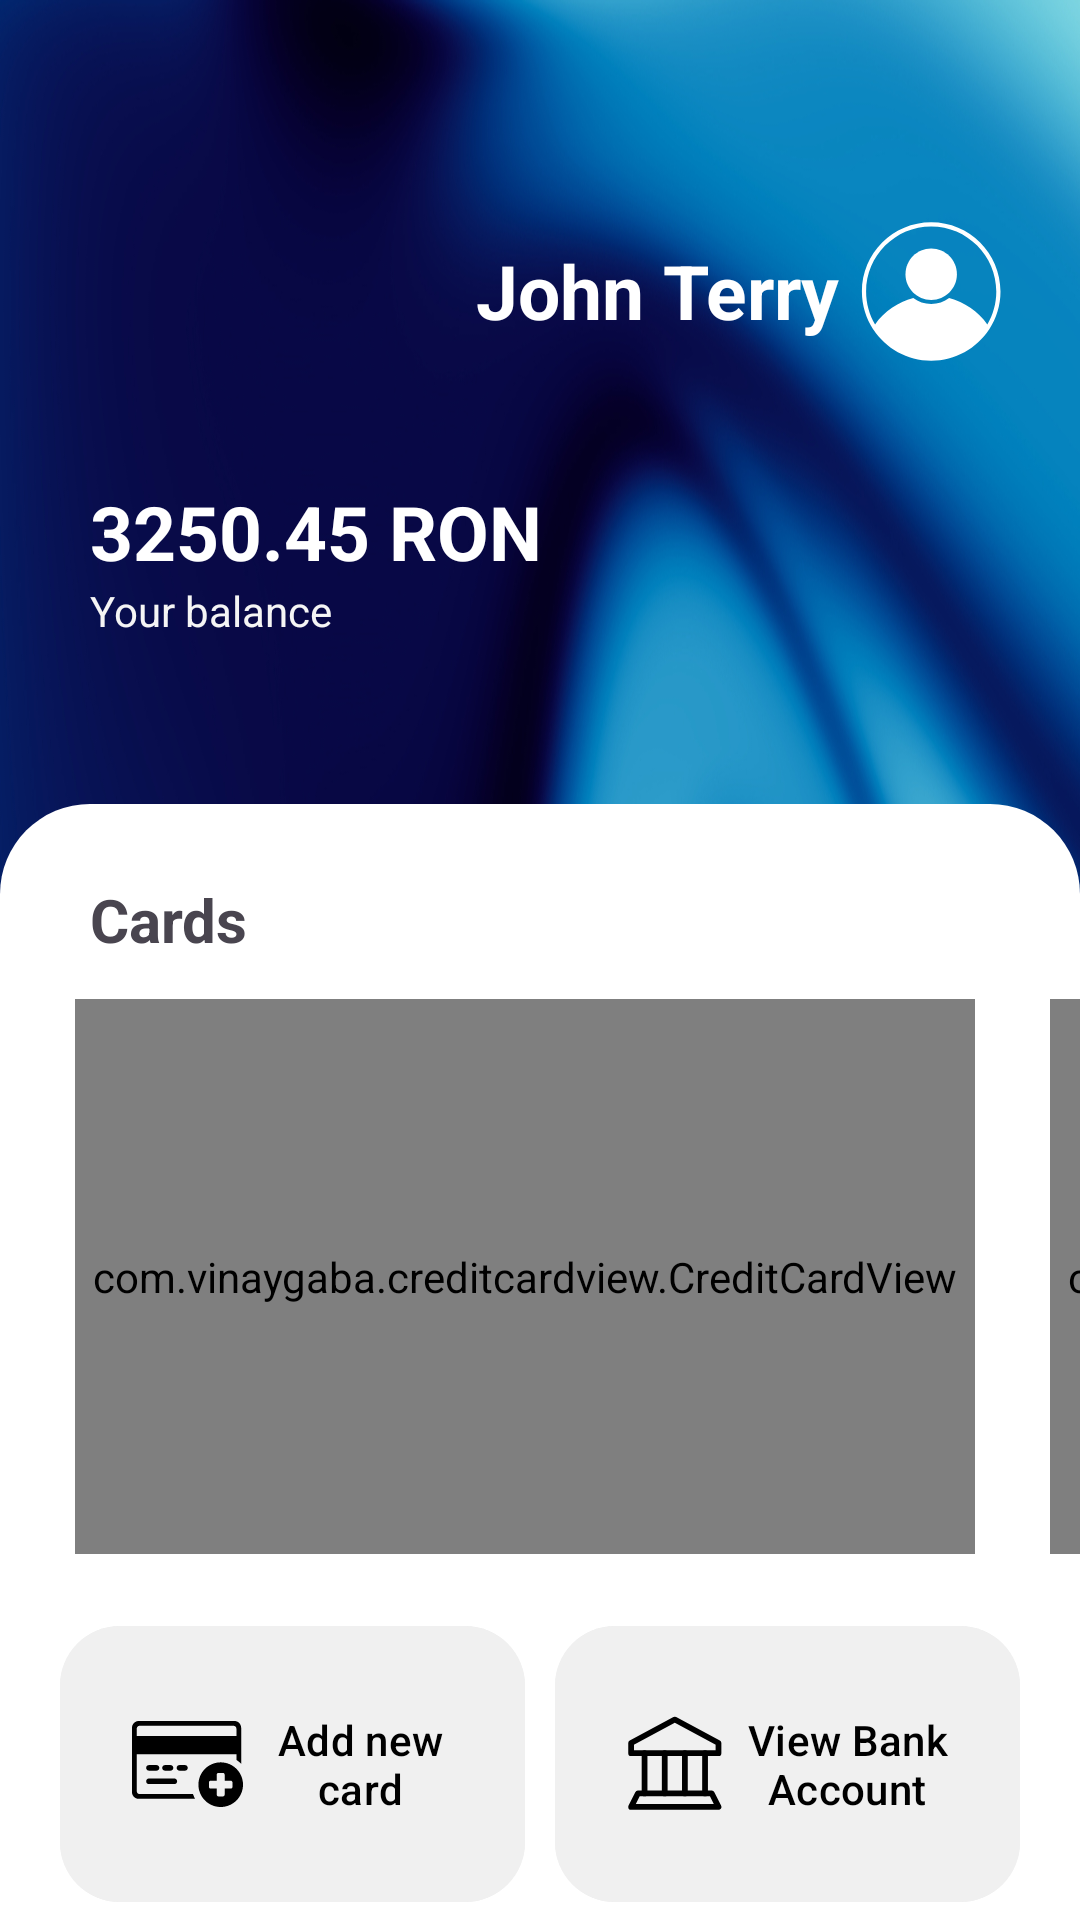

Where to tap for icons on this 1080 x 1920 app screen, as (x,y):
profile picture round: (931,291)
